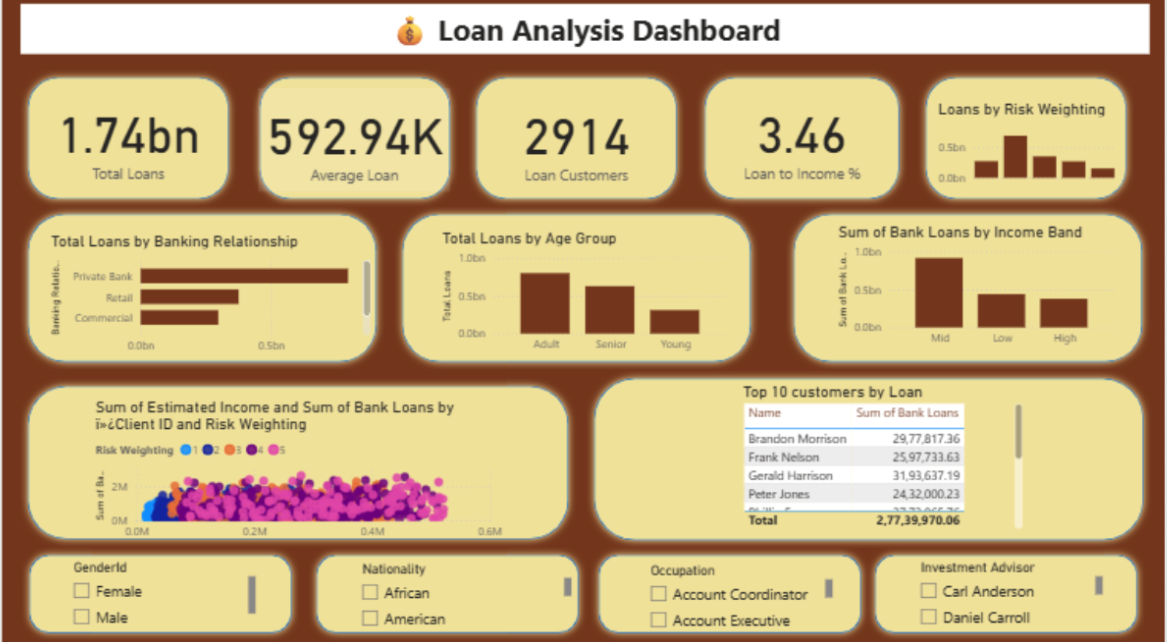

This screenshot's page, from the dashboard's own definition file:
{"tool":"powerbi","page":{"name":"Loan Wise Analysis","canvas":[1280,720],"ordinal":1},"visuals":[{"type":"textbox","box":[20.6,15.1,1236.4,54.9],"z":0},{"type":"shape","box":[20.6,87.8,236,149.6],"z":1000},{"type":"shape","box":[1003.1,87.8,236,149.6],"z":2000},{"type":"shape","box":[760.2,87.8,229.2,149.6],"z":3000},{"type":"shape","box":[510.5,87.8,236,149.6],"z":4000},{"type":"shape","box":[273.1,87.8,225,149.6],"z":5000},{"type":"card","fields":{"Values":["DAX_Mesures.Total Loans"]},"box":[20.6,87.8,236,149.6],"z":6000},{"type":"card","fields":{"Values":["DAX_Mesures.Average Loan"]},"box":[279.9,107,209.9,112.5],"z":7000},{"type":"card","fields":{"Values":["DAX_Mesures.Loan Customers"]},"box":[510.5,89.2,236,149.6],"z":8000},{"type":"card","fields":{"Values":["DAX_Mesures.Loan to Income %"]},"box":[757.5,87.8,236,149.6],"z":9000},{"type":"clusteredColumnChart","title":"Loans by Risk Weighting","fields":{"Category":["banking_case customer.Risk Weighting"],"Y":["DAX_Mesures.Total Loans"]},"box":[1019.6,119.4,203.1,100.2],"z":10000},{"type":"shape","box":[20.6,237.4,397.9,178.4],"z":11000},{"type":"shape","box":[859,237.4,397.9,178.4],"z":12000},{"type":"shape","box":[429.5,237.4,397.9,178.4],"z":13000},{"type":"shape","box":[20.6,425.4,607.9,183.9],"z":14000},{"type":"shape","box":[639.5,415.8,617.5,193.5],"z":15000},{"type":"clusteredBarChart","fields":{"Y":["DAX_Mesures.Total Loans"],"Category":["Banking Relationship.Banking Relationship"]},"box":[49.4,263.5,359.5,142.7],"z":16000},{"type":"clusteredColumnChart","fields":{"Category":["banking_case customer.Age Group"],"Y":["DAX_Mesures.Total Loans"]},"box":[477.5,260.7,322.5,145.5],"z":17000},{"type":"clusteredColumnChart","fields":{"Category":["banking_case customer.Income Band"],"Y":["Sum(banking_case customer.Bank Loans)"]},"box":[909.8,253.9,312.9,145.5],"z":18000},{"type":"scatterChart","fields":{"X":["Sum(banking_case customer.Estimated Income)"],"Y":["Sum(banking_case customer.Bank Loans)"],"Series":["banking_case customer.Risk Weighting"],"Category":["banking_case customer.ï»¿Client ID"]},"box":[97.4,444.6,455.6,164.7],"z":19000},{"type":"shape","box":[22,609.3,303.3,101.5],"z":20000},{"type":"shape","box":[336.2,609.3,303.3,101.5],"z":21000},{"type":"shape","box":[644.9,609.3,303.3,101.5],"z":22000},{"type":"shape","box":[948.2,609.3,303.3,101.5],"z":23000},{"type":"tableEx","fields":{"Values":["banking_case customer.Name","Sum(banking_case customer.Bank Loans)"]},"box":[805.5,428.1,315.6,166],"z":24000},{"type":"slicer","fields":{"Values":["banking_case customer.GenderId"]},"box":[65.9,620.2,216.8,81],"z":25000},{"type":"slicer","fields":{"Values":["banking_case customer.Nationality"]},"box":[381.5,620.2,247,81],"z":26000},{"type":"slicer","fields":{"Values":["banking_case customer.Occupation"]},"box":[697.1,621.6,216.8,81],"z":27000},{"type":"slicer","fields":{"Values":["Investment Advisor.Investment Advisor"]},"box":[992.1,618.9,216.8,81],"z":28000}]}

Visuals, with their boxes in screenshot pixels (x1, y1, x2, y2), scaled from the page's 1280x720 canvas onto the 1167x642 screenshot:
textbox: region(19, 13, 1146, 62)
shape: region(19, 78, 234, 212)
shape: region(915, 78, 1130, 212)
shape: region(693, 78, 902, 212)
shape: region(465, 78, 681, 212)
shape: region(249, 78, 454, 212)
card - DAX_Mesures.Total Loans: region(19, 78, 234, 212)
card - DAX_Mesures.Average Loan: region(255, 95, 447, 196)
card - DAX_Mesures.Loan Customers: region(465, 80, 681, 213)
card - DAX_Mesures.Loan to Income %: region(691, 78, 906, 212)
"Loans by Risk Weighting" clusteredColumnChart: region(930, 106, 1115, 196)
shape: region(19, 212, 382, 371)
shape: region(783, 212, 1146, 371)
shape: region(392, 212, 754, 371)
shape: region(19, 379, 573, 543)
shape: region(583, 371, 1146, 543)
clusteredBarChart - DAX_Mesures.Total Loans x Banking Relationship.Banking Relationship: region(45, 235, 373, 362)
clusteredColumnChart - banking_case customer.Age Group x DAX_Mesures.Total Loans: region(435, 232, 729, 362)
clusteredColumnChart - banking_case customer.Income Band x Sum(banking_case customer.Bank Loans): region(829, 226, 1115, 356)
scatterChart - Sum(banking_case customer.Estimated Income) x Sum(banking_case customer.Bank Loans): region(89, 396, 504, 543)
shape: region(20, 543, 297, 634)
shape: region(307, 543, 583, 634)
shape: region(588, 543, 864, 634)
shape: region(864, 543, 1141, 634)
tableEx - banking_case customer.Name x Sum(banking_case customer.Bank Loans): region(734, 382, 1022, 530)
slicer - banking_case customer.GenderId: region(60, 553, 258, 625)
slicer - banking_case customer.Nationality: region(348, 553, 573, 625)
slicer - banking_case customer.Occupation: region(636, 554, 833, 626)
slicer - Investment Advisor.Investment Advisor: region(905, 552, 1102, 624)
